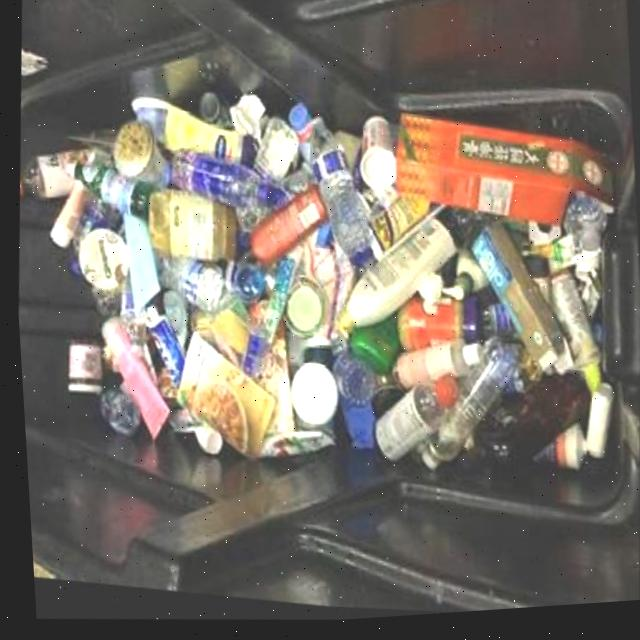Foam cups and plates: (364, 123, 400, 195)
Garbage: (17, 96, 617, 478)
Glass_bottle: (70, 168, 153, 225), (349, 321, 400, 404), (397, 302, 463, 358), (17, 160, 78, 205), (233, 267, 266, 308)
Plastic: (241, 263, 297, 383), (191, 300, 249, 372), (256, 330, 292, 440), (120, 282, 155, 387), (506, 230, 578, 281), (330, 248, 358, 361), (167, 413, 219, 461), (332, 357, 370, 414), (97, 392, 137, 442), (341, 404, 373, 455), (163, 295, 188, 354), (483, 310, 516, 348), (525, 264, 550, 311), (371, 395, 402, 425), (287, 168, 315, 201), (238, 212, 272, 239), (286, 336, 305, 384), (463, 301, 480, 351), (581, 370, 599, 402), (351, 255, 374, 279), (69, 264, 83, 282)
Plastic_Bag: (468, 382, 588, 469)
Plastic_Container: (338, 218, 457, 342), (137, 102, 248, 168), (528, 390, 612, 476), (372, 193, 433, 266), (289, 368, 336, 433), (52, 186, 93, 253), (364, 122, 400, 195), (444, 256, 490, 307)
Plastic_bottle: (418, 346, 516, 476), (238, 192, 330, 273), (175, 157, 294, 214), (294, 232, 339, 375), (317, 153, 374, 263), (552, 279, 599, 376), (68, 202, 125, 281), (157, 260, 232, 319), (390, 348, 481, 396), (258, 123, 303, 189), (294, 109, 337, 174), (567, 201, 609, 260), (412, 381, 457, 436)
Plastic_wraper: (156, 338, 272, 463), (101, 322, 167, 445), (117, 126, 175, 194), (125, 219, 161, 316)
Toothpaste: (146, 309, 184, 391)
can: (204, 96, 237, 134)
